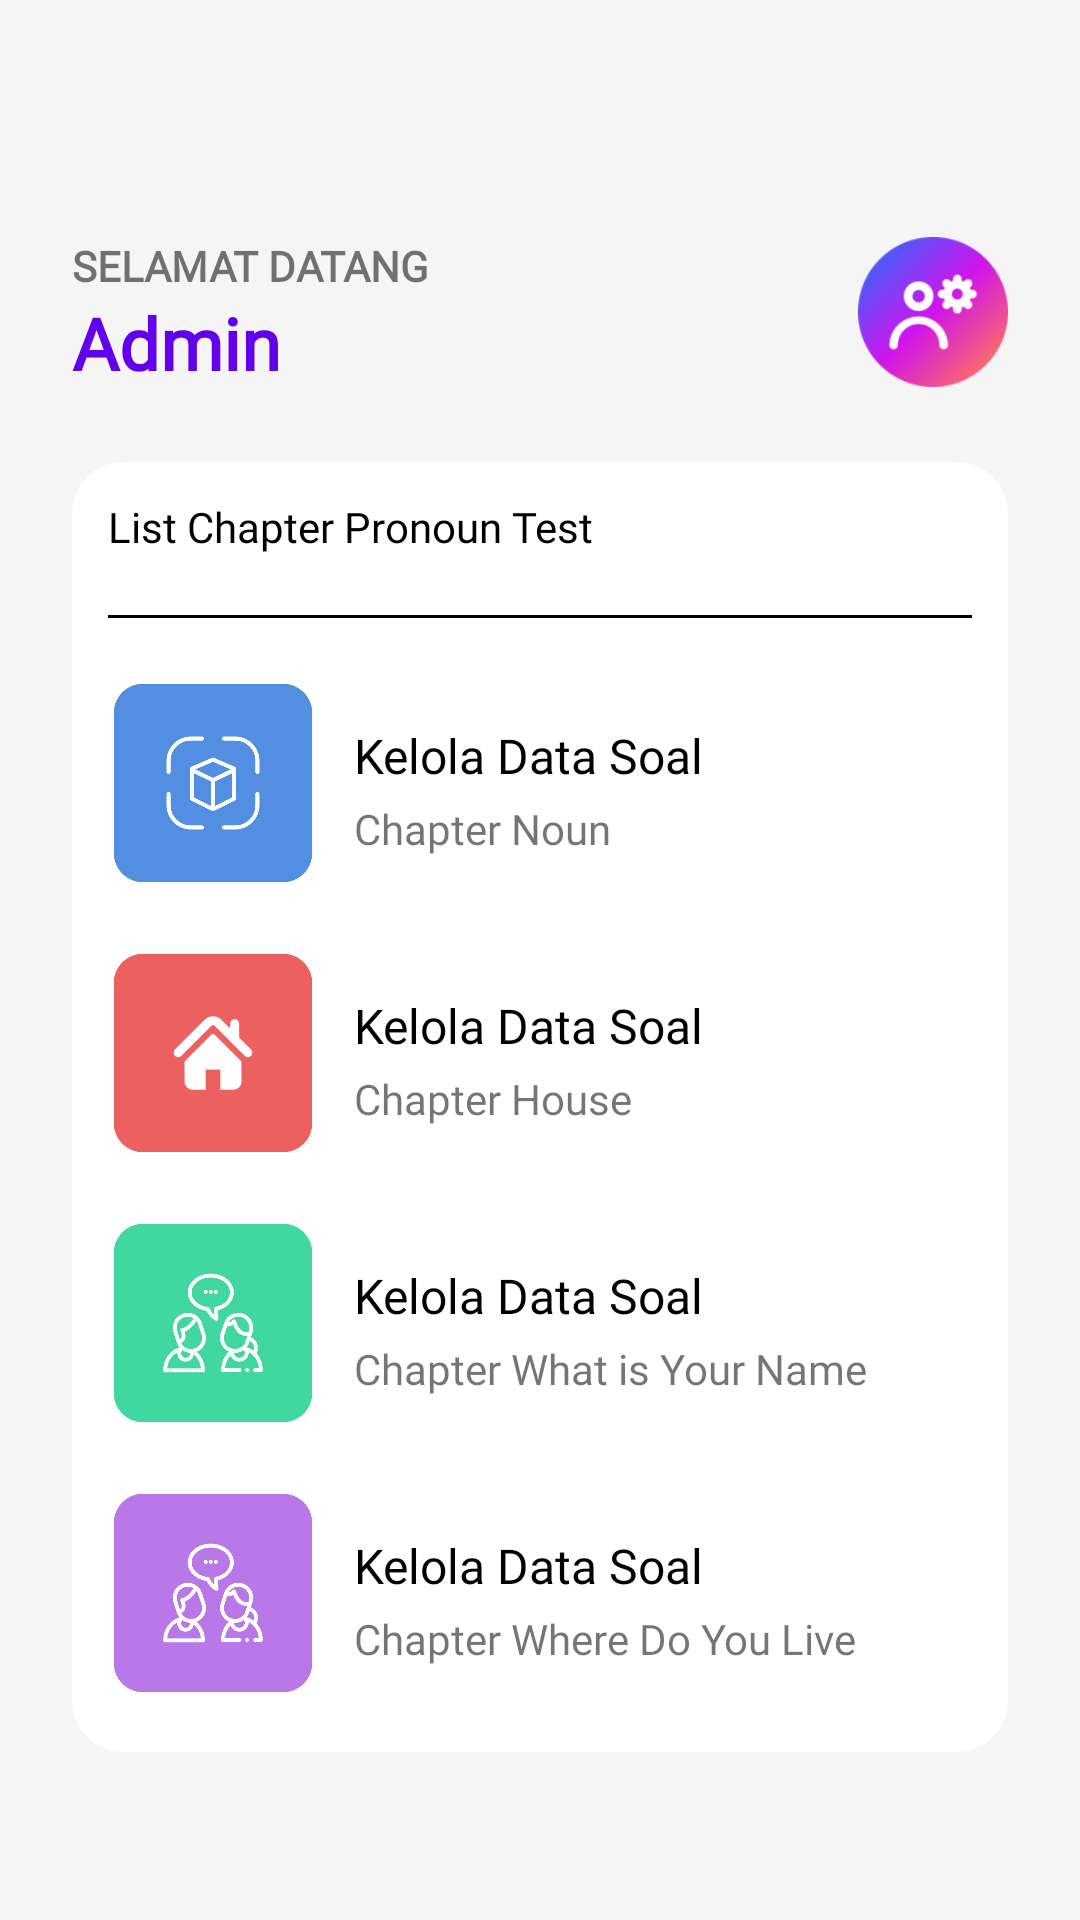

Icon click points for this 1080*1920 phone screenshot, format [x,y]:
admin: [933,312]
